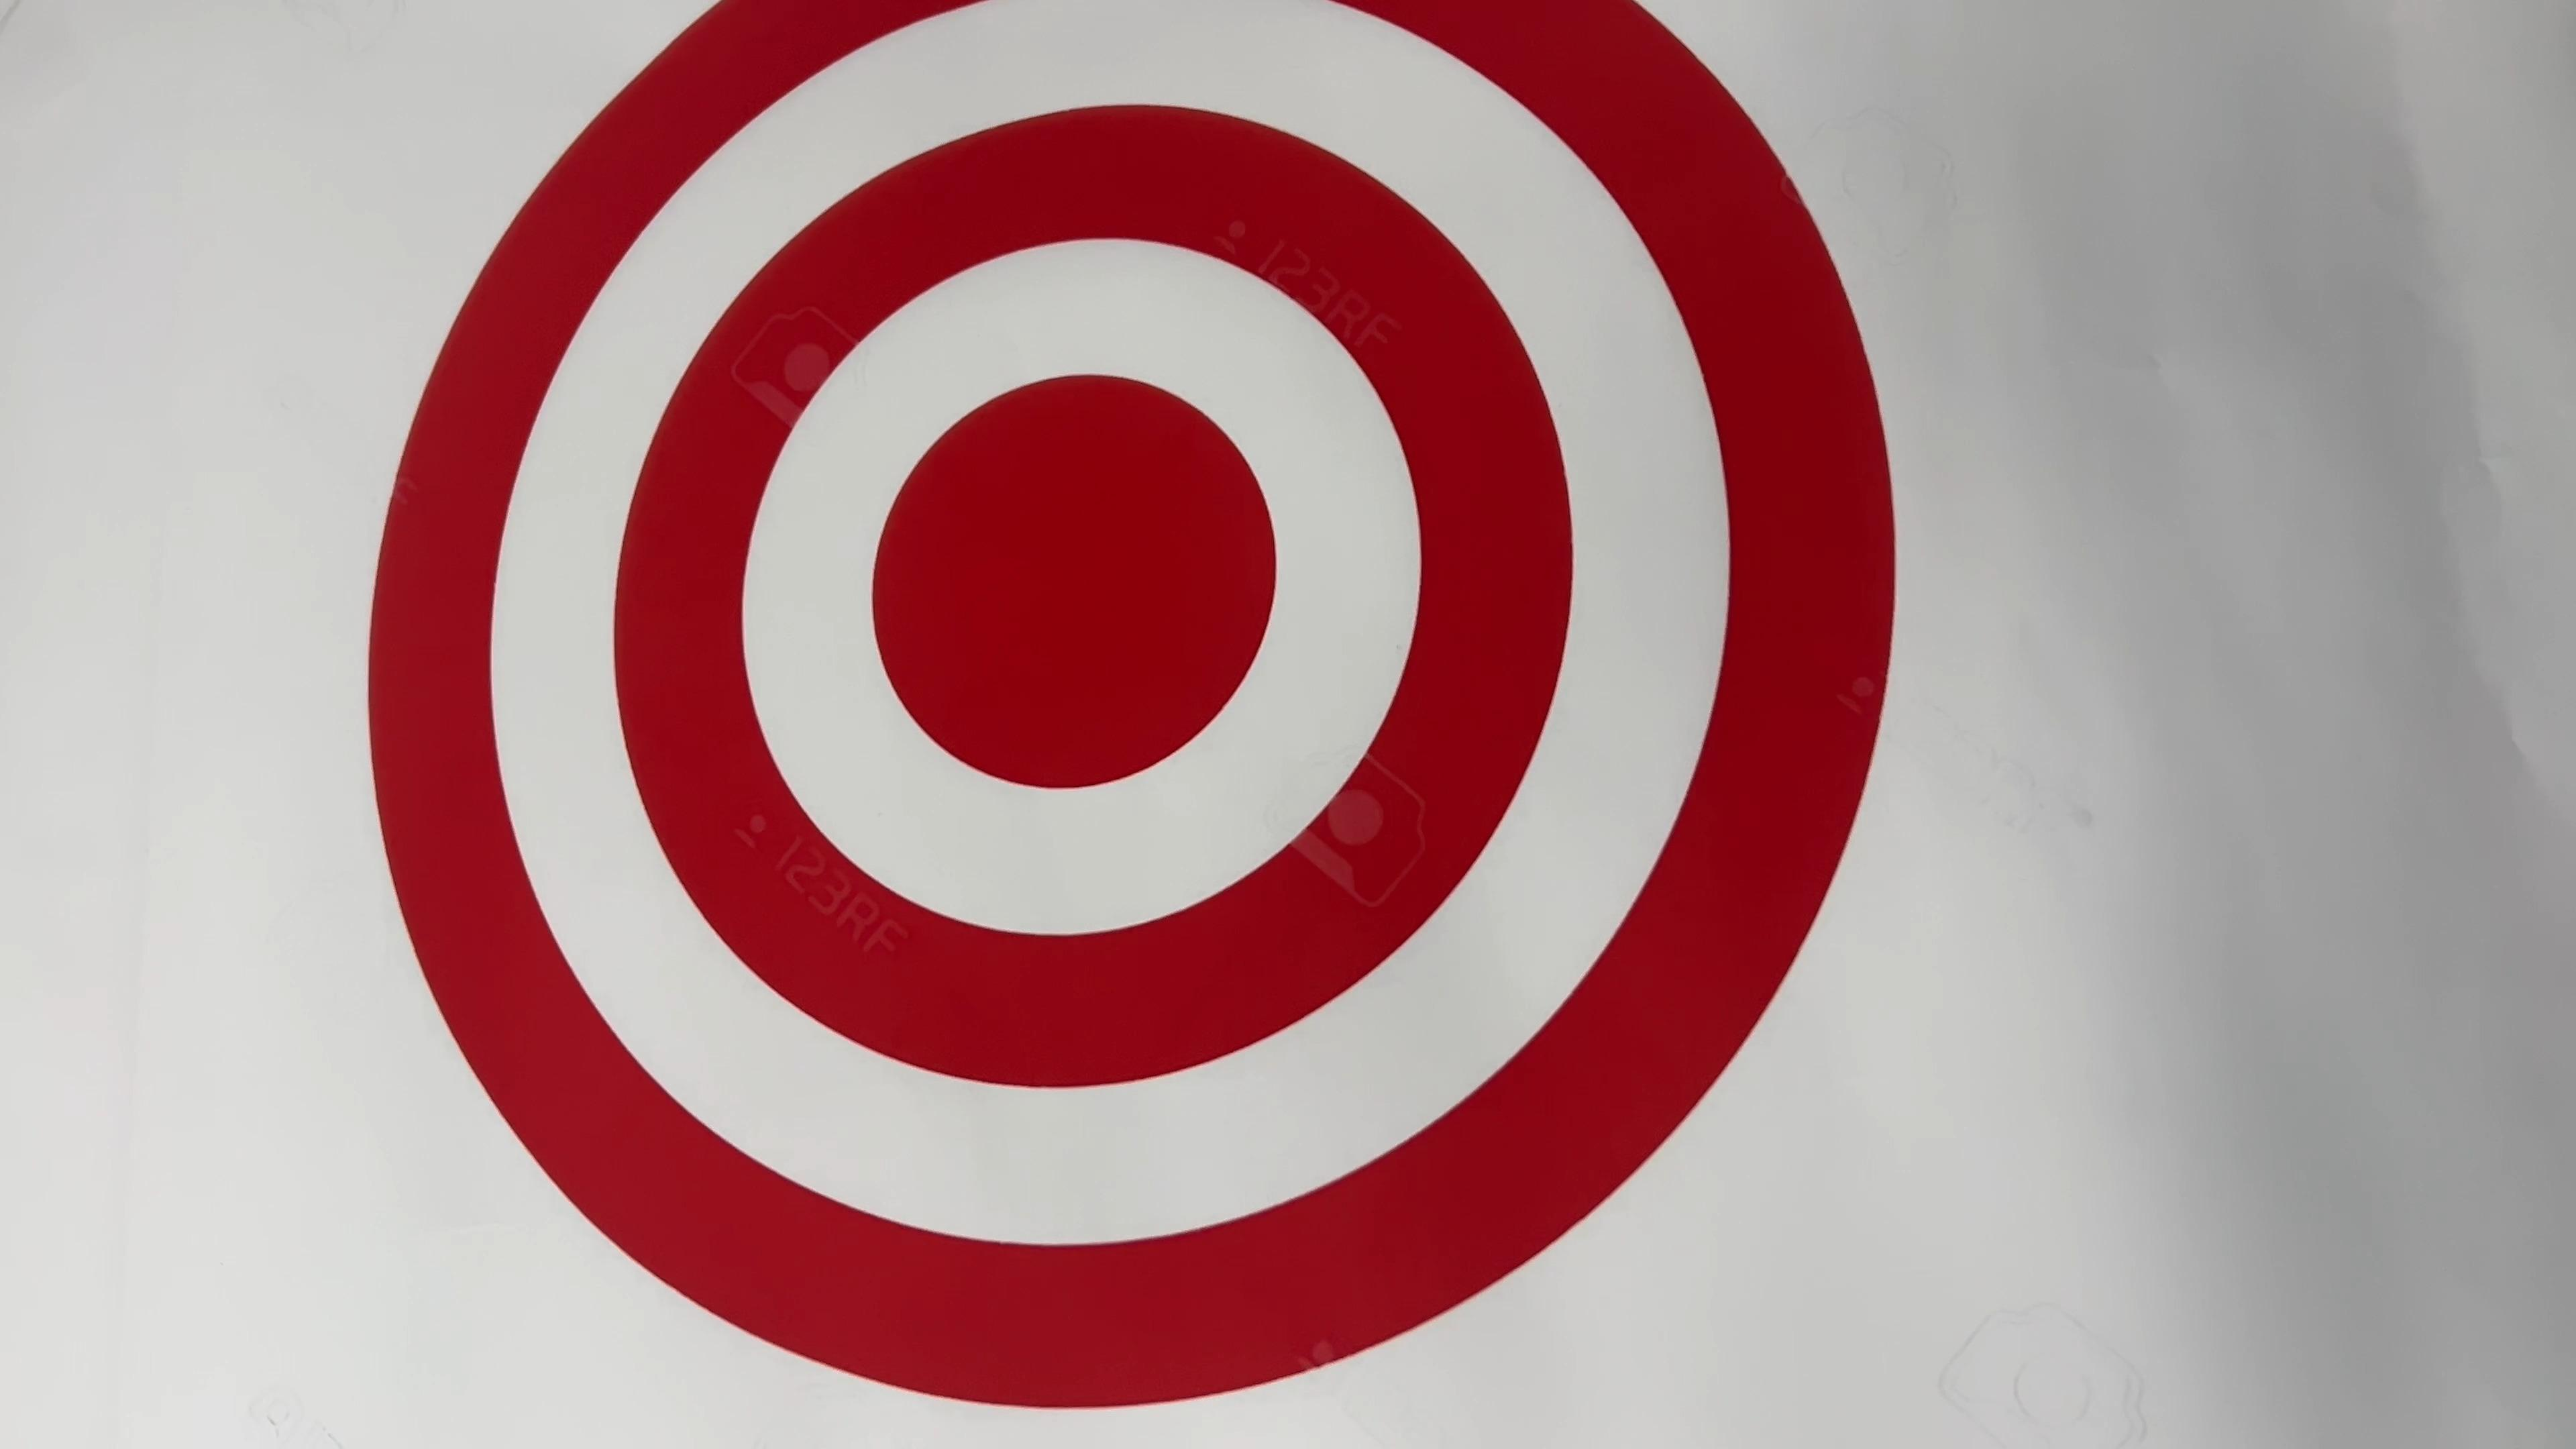target_red: (329, 0, 1948, 1449)
